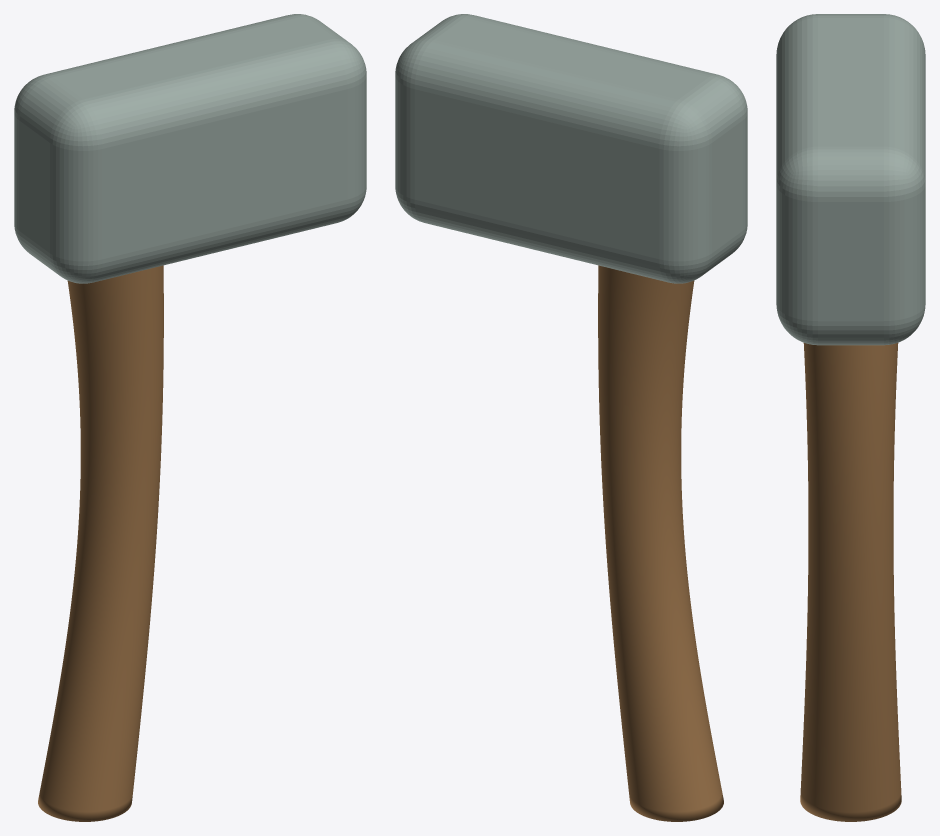
Rendered from reduced-10000.glb.
3 views of the same model, side by side, from view 1: azimuth 30°, elevation 25°; view 2: azimuth 150°, elevation 25°; view 3: azimuth 270°, elevation 25° (orthographic). The views are drawn at different scales.
Visible parts, largest first — view 1: Cube.002, Handle.002; view 2: Cube.002, Handle.002; view 3: Cube.002, Handle.002.
Part boxes in pixels (<box>): Cube.002: <box>14,14,366,283</box>; Handle.002: <box>38,265,163,821</box>; Cube.002: <box>395,14,747,283</box>; Handle.002: <box>598,265,723,821</box>; Cube.002: <box>776,14,925,345</box>; Handle.002: <box>800,343,901,821</box>.
Size of the model in its own units: 0.65 by 1.43 by 0.25.
